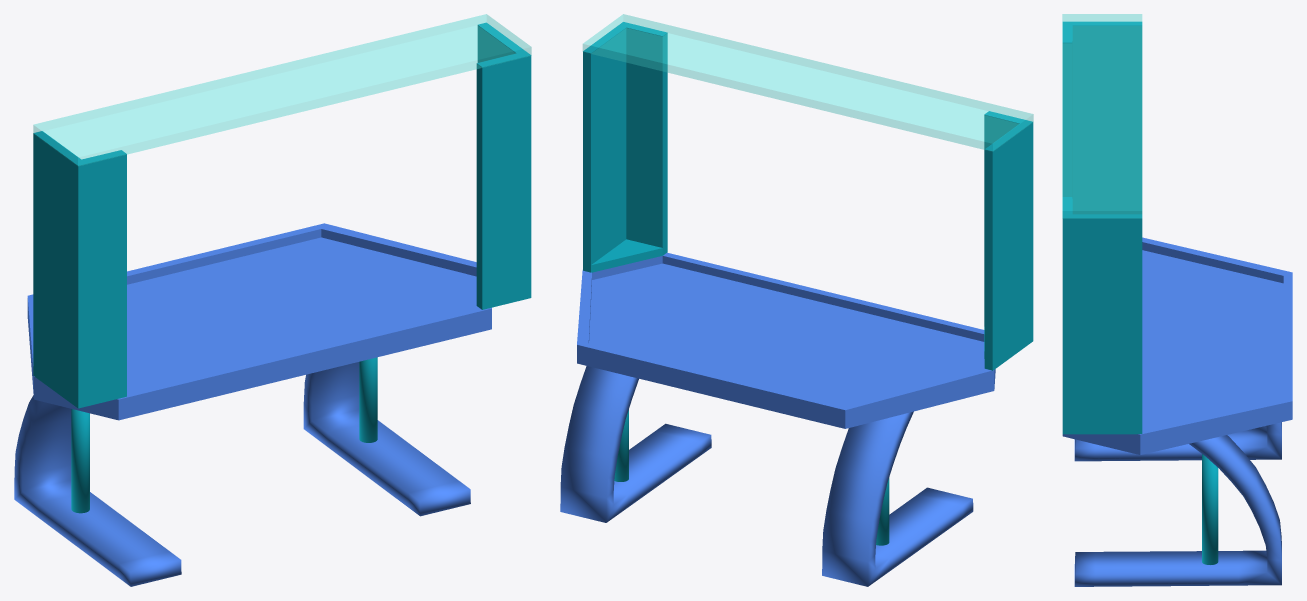
The model's file is table_tier15.fbx.
3 renders of one model, left to right at view 1: azimuth 30°, elevation 25°; view 2: azimuth 150°, elevation 25°; view 3: azimuth 270°, elevation 25°, orthographic. The views are drawn at different scales.
Parts seen in each view (by area): view 1: Cube.002, Cube, Cube.003, Cube.001, Plane.002, Plane.001, Cylinder, Cylinder.001; view 2: Cube.002, Cube, Cube.001, Plane.002, Plane.001, Cube.003, Cylinder.001; view 3: Cube.002, Cube.001, Cube, Cube.003, Plane.001, Plane.002, Cylinder.001.
Boxes of the visible parts, x1,y1,x2,y2 form: Cube.002: (27, 223, 491, 420); Cube: (33, 14, 531, 165); Cube.003: (33, 131, 126, 408); Cube.001: (476, 22, 531, 309); Plane.002: (14, 395, 181, 586); Plane.001: (303, 362, 470, 516); Cylinder: (71, 409, 89, 513); Cylinder.001: (359, 357, 377, 442); Cube.002: (577, 252, 995, 428); Cube: (583, 14, 1033, 151); Cube.001: (583, 22, 667, 272); Plane.002: (822, 411, 973, 586); Plane.001: (560, 366, 711, 522); Cube.003: (984, 111, 1033, 370); Cylinder.001: (614, 410, 628, 481); Cube.002: (1062, 237, 1292, 454); Cube.001: (1062, 197, 1142, 434); Cube: (1062, 14, 1141, 218); Cube.003: (1062, 21, 1142, 214); Plane.001: (1074, 435, 1281, 586); Plane.002: (1074, 422, 1281, 461); Cylinder.001: (1202, 454, 1218, 564).
Size of the model in its own units: 221 by 208 by 109.
